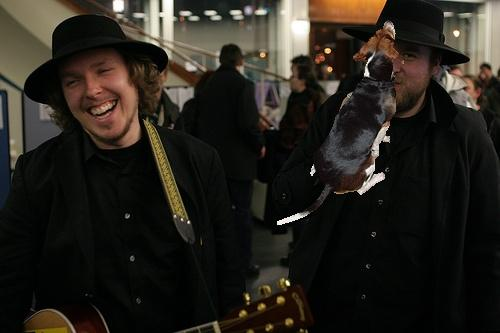tampered: (277, 21, 404, 225)
